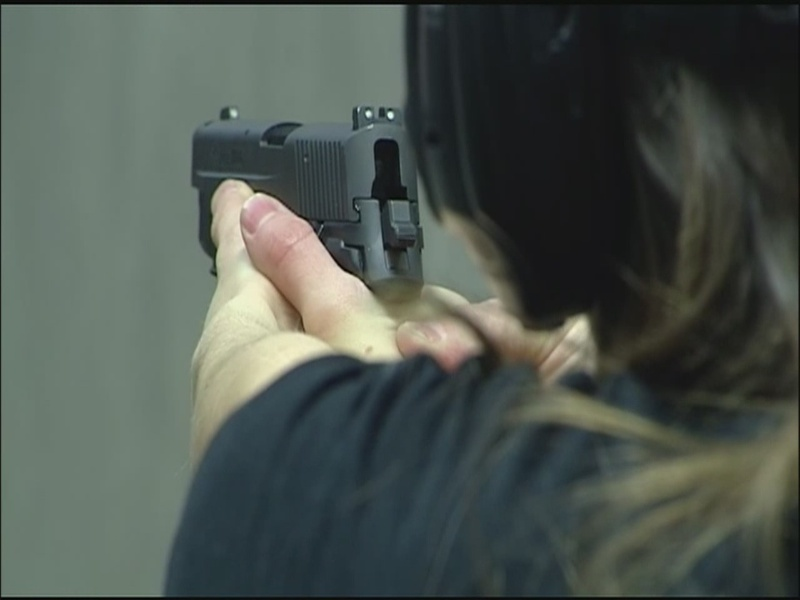gun: (191, 94, 423, 359)
